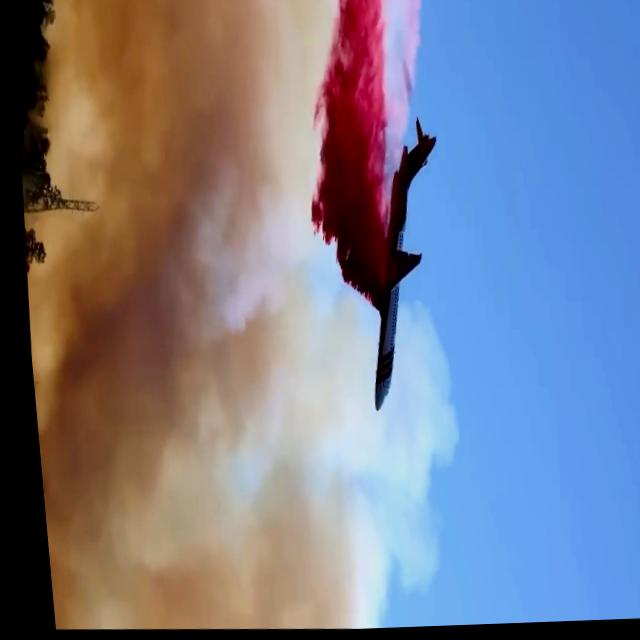Smoke: (0, 0, 352, 639)
